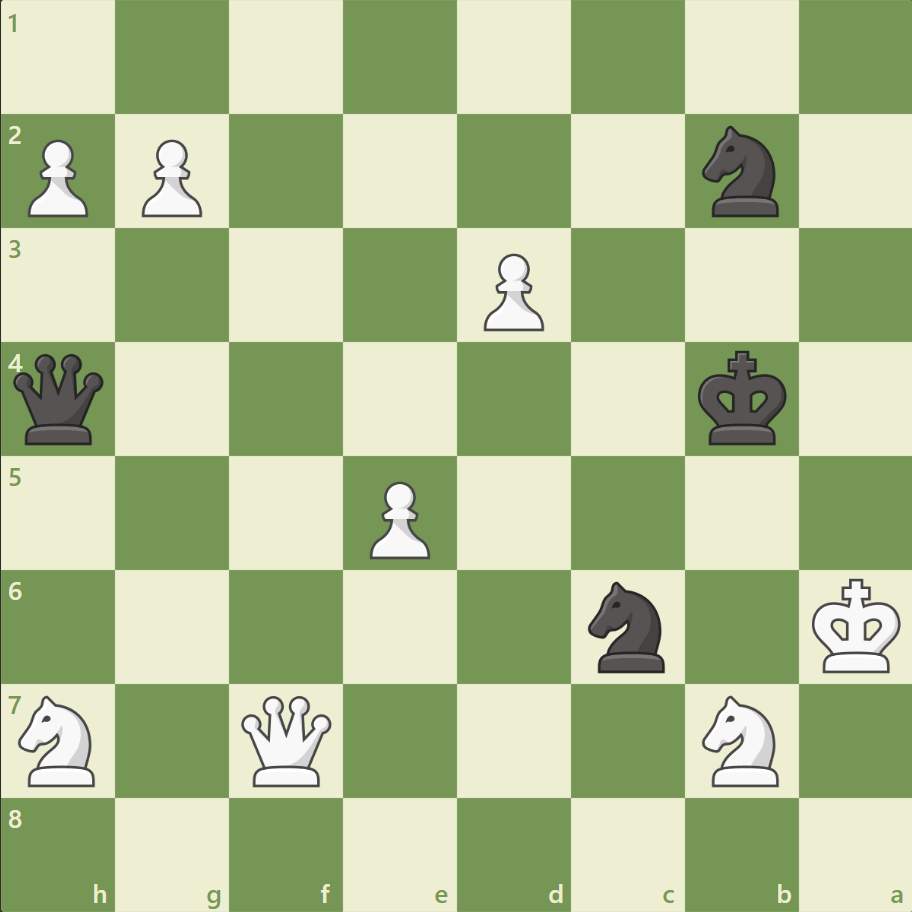K: (806, 571, 906, 679)
N: (692, 688, 789, 791), (11, 688, 108, 791)
P: (474, 246, 549, 337), (133, 132, 208, 223), (20, 132, 95, 223), (361, 473, 435, 564)
Q: (237, 690, 336, 789)
k: (692, 344, 792, 452)
n: (579, 575, 676, 677), (692, 121, 789, 223)
q: (10, 349, 109, 449)
